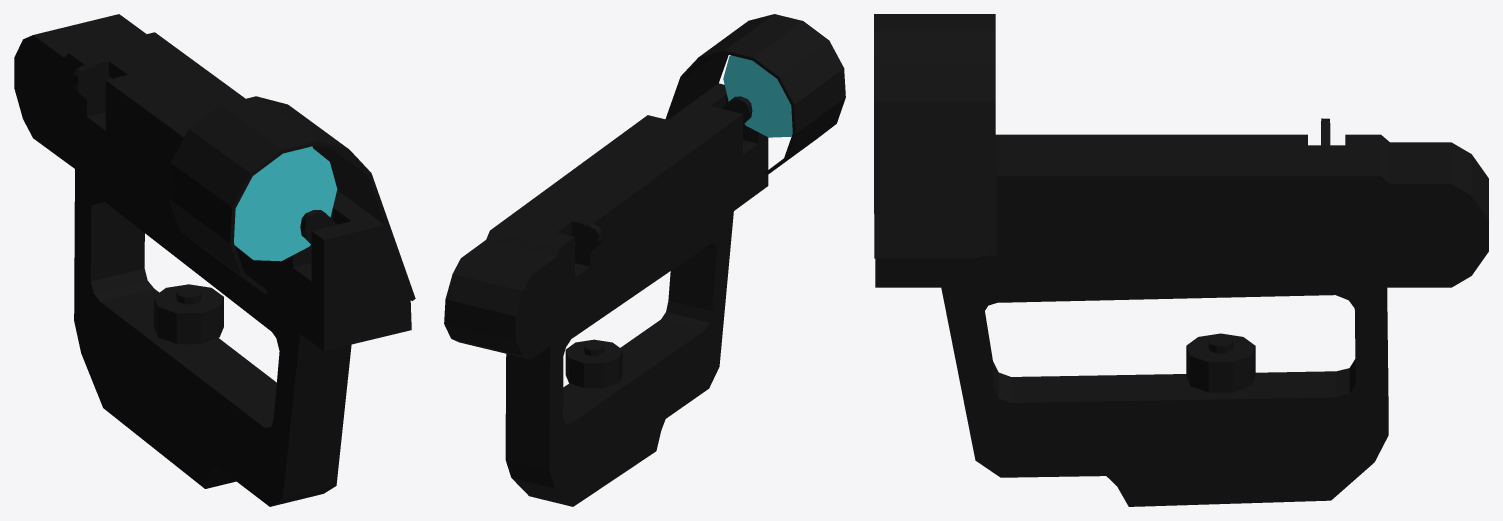
File: okp7 sight.fbx
3 renders of one model, left to right at view 1: azimuth 30°, elevation 25°; view 2: azimuth 150°, elevation 25°; view 3: azimuth 270°, elevation 25°, orthographic. The views are drawn at different scales.
Parts seen in each view (by area): view 1: Sight base, Russian mount, Lens; view 2: Sight base, Russian mount, Lens; view 3: Sight base, Russian mount.
Boxes of the visible parts, x1,y1,x2,y2 form: Sight base: [14, 14, 415, 350]; Russian mount: [74, 169, 351, 506]; Lens: [234, 146, 337, 261]; Sight base: [444, 14, 845, 359]; Russian mount: [505, 211, 733, 506]; Lens: [723, 55, 792, 137]; Sight base: [874, 14, 1488, 287]; Russian mount: [941, 287, 1388, 506].
Size of the model in its own units: 4.27 by 9.79 by 12.35.
